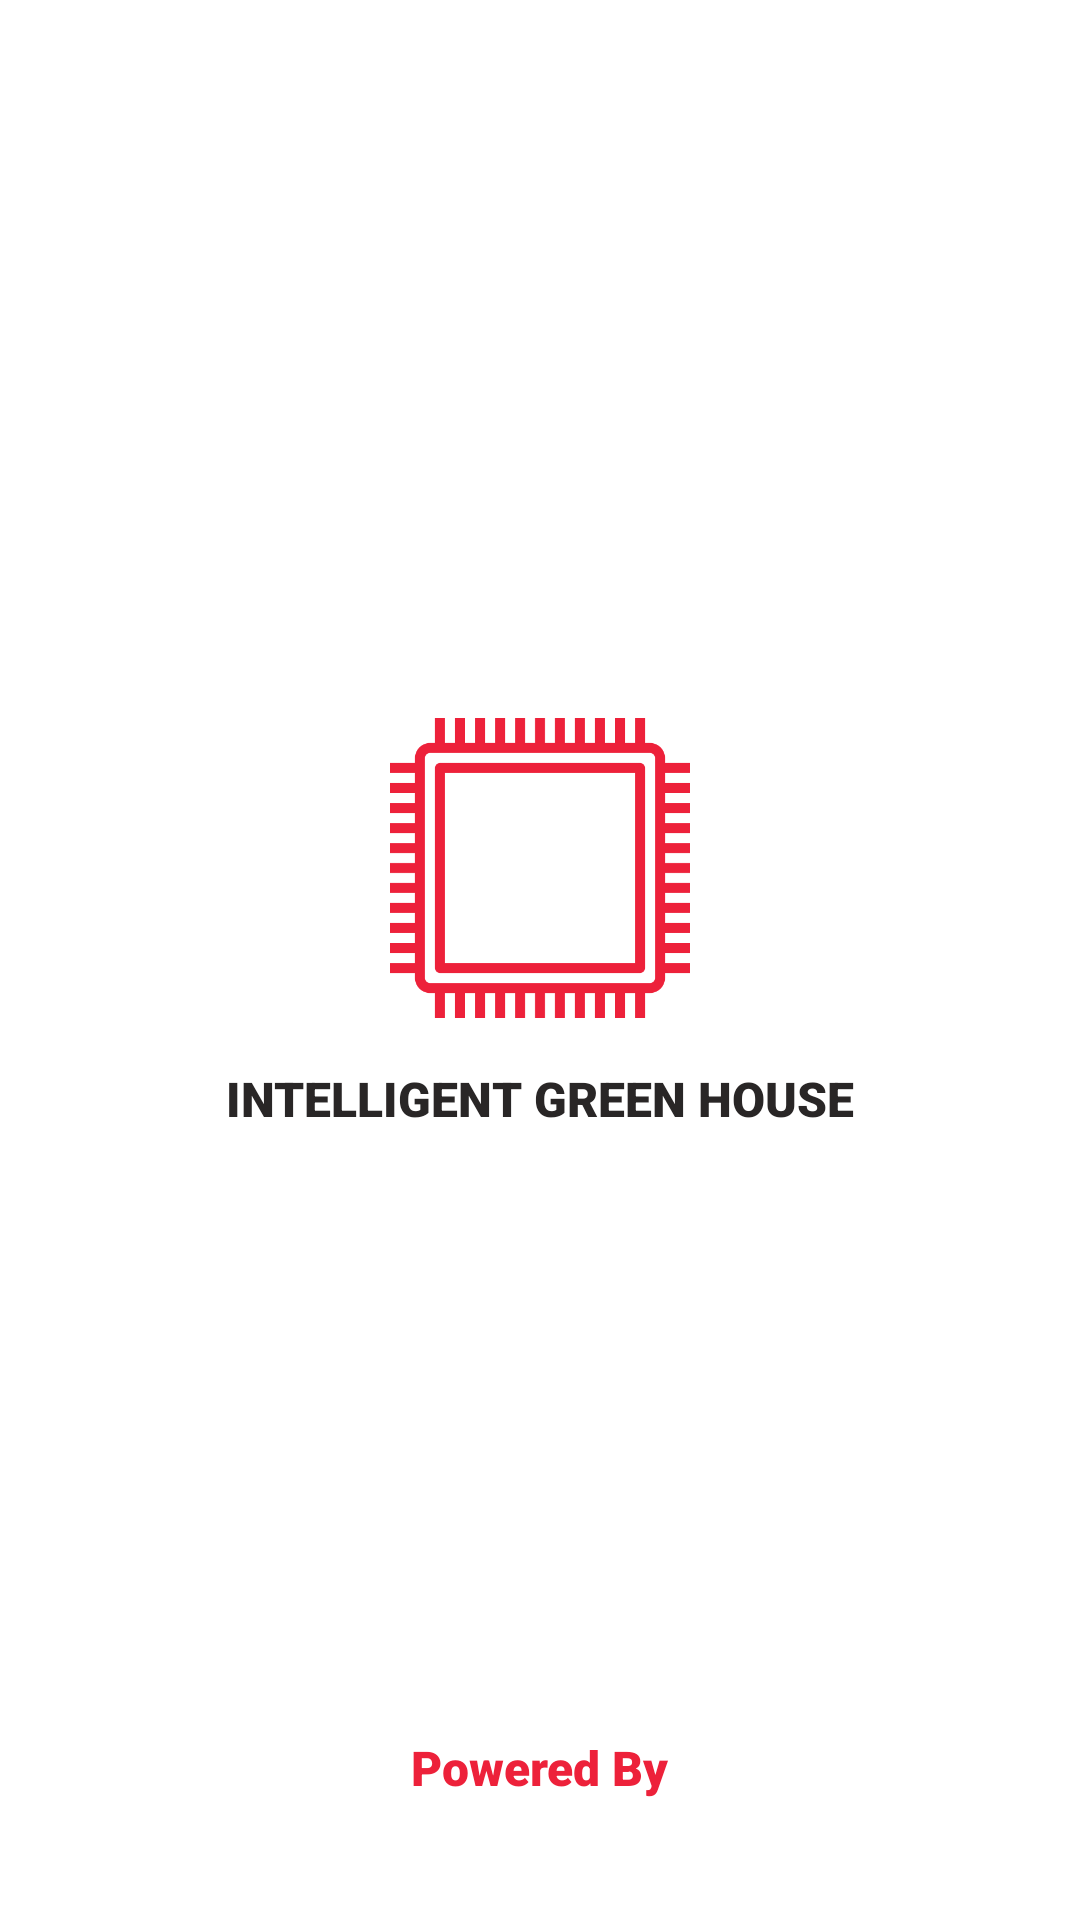

Icon click points for this 1080x1920 phone screenshot, format point (x, y):
cpu: point (540, 868)
